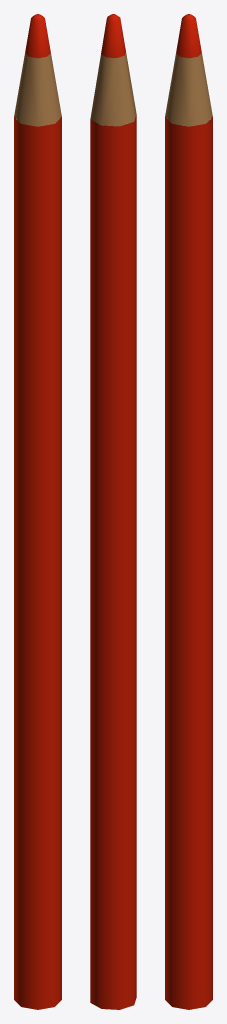
Rendered from pencil-transformed.glb.
3 renders of one model, left to right at view 1: azimuth 90°, elevation 25°; view 2: azimuth 150°, elevation 25°; view 3: azimuth 270°, elevation 25°, orthographic.
Parts seen in each view (by area): view 1: Colour, Wood; view 2: Colour, Wood; view 3: Colour, Wood.
Boxes of the visible parts, x1=… form: Colour: x1=14, y1=14, x2=61, y2=1009; Wood: x1=14, y1=53, x2=61, y2=126; Colour: x1=90, y1=14, x2=136, y2=1009; Wood: x1=90, y1=52, x2=136, y2=126; Colour: x1=165, y1=14, x2=212, y2=1009; Wood: x1=165, y1=53, x2=212, y2=126.
Size of the model in its own units: 1.12 by 25.49 by 1.12.
